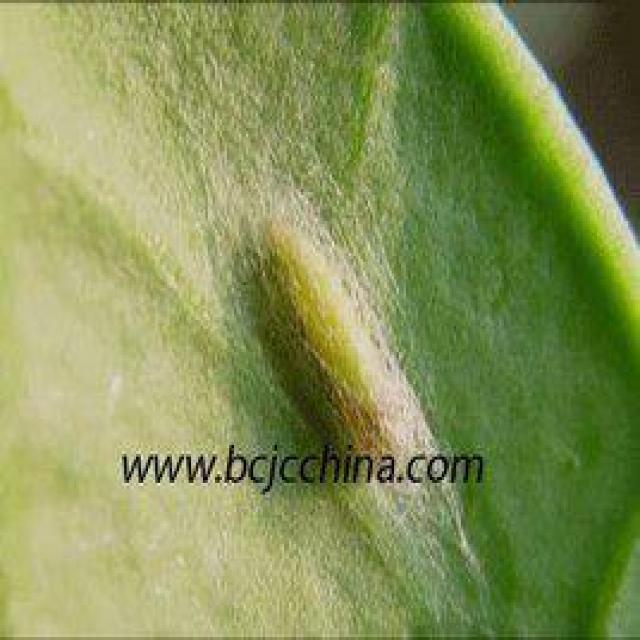armyworm: (251, 220, 415, 467)
